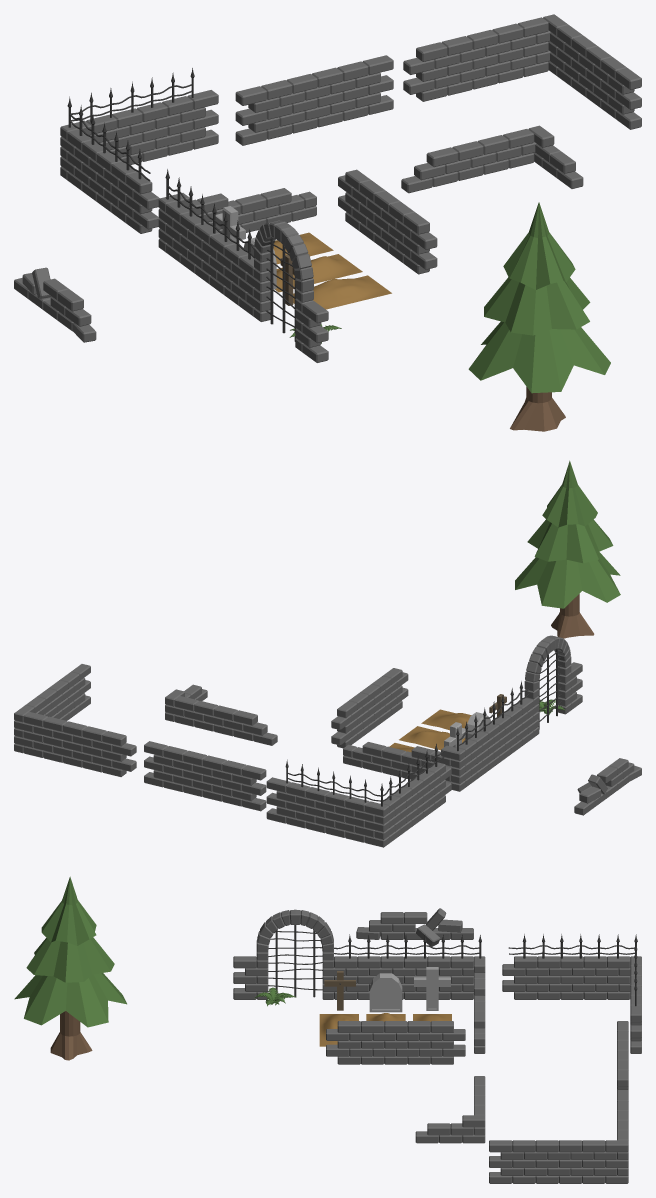
File: Graveyard_Pack.fbx
The picture shows the model from 3 angles, top to bottom: view 1: azimuth 30°, elevation 25°; view 2: azimuth 150°, elevation 25°; view 3: azimuth 270°, elevation 25°; orthographic projection. The views are drawn at different scales.
Visible parts, largest first — view 1: Cylinder, Cube.007, Cube.006, Cube.008, Cube.002, Cube.001, Cube.003, Cube.009, Cube, Cube.010, Plane.004, Cube.005 (+3 smaller); view 2: Cylinder, Cube.006, Cube.007, Cube.002, Cube.008, Cube.001, Cube.009, Cube.003, Cube, Cube.010, Plane, Cube.004 (+2 smaller); view 3: Cylinder, Cube.007, Cube.006, Cube.009, Cube.002, Cube.003, Cube, Cube.001, Plane.001, Cube.005, Cube.004, Cube.010 (+4 smaller).
Boxes of the visible parts, x1,y1,x2,y2 form: Cylinder: (468,202,610,431); Cube.007: (403,14,641,129); Cube.006: (60,90,218,233); Cube.008: (235,55,393,145); Cube.002: (158,188,316,305); Cube.001: (401,125,583,193); Cube.003: (239,220,328,362); Cube.009: (338,169,437,274); Cube: (14,267,96,342); Cube.010: (67,68,194,181); Plane.004: (293,275,391,309); Cube.005: (266,238,296,341); Cylinder: (515,460,620,638); Cube.006: (266,762,451,847); Cube.007: (14,664,136,776); Cube.002: (343,706,527,791); Cube.008: (144,741,266,811); Cube.001: (165,684,277,745); Cube.009: (331,668,408,748); Cube.003: (513,635,582,745); Cube: (574,758,641,815); Cube.010: (285,743,444,806); Plane: (399,726,465,750); Cube.004: (456,681,529,751); Cylinder: (14,876,126,1060); Cube.007: (489,1091,628,1183); Cube.006: (502,956,641,1053); Cube.009: (326,1021,465,1064); Cube.002: (345,956,485,1053); Cube.003: (233,909,357,999); Cube: (356,908,473,946); Cube.001: (415,1076,485,1143); Plane.001: (369,973,402,1012); Cube.005: (268,925,322,997); Cube.004: (334,934,481,958); Cube.010: (508,934,637,1006).
Size of the model in its own units: 5062 by 1655 by 5395.
